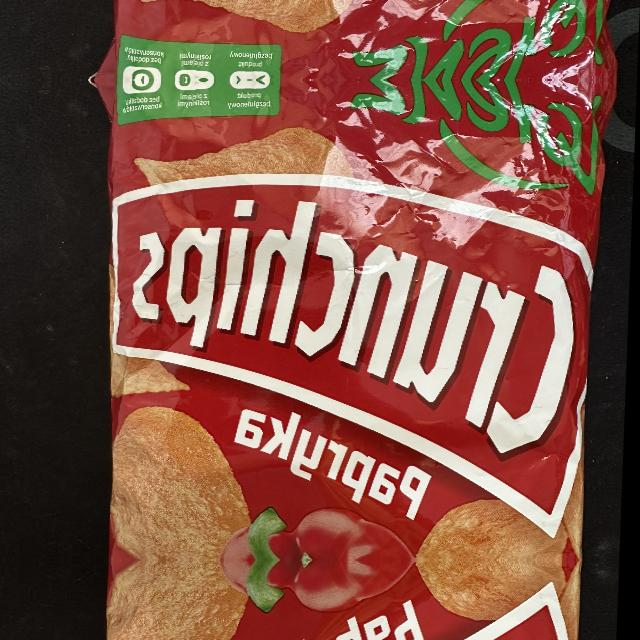crunchips: (115, 175, 597, 539)
